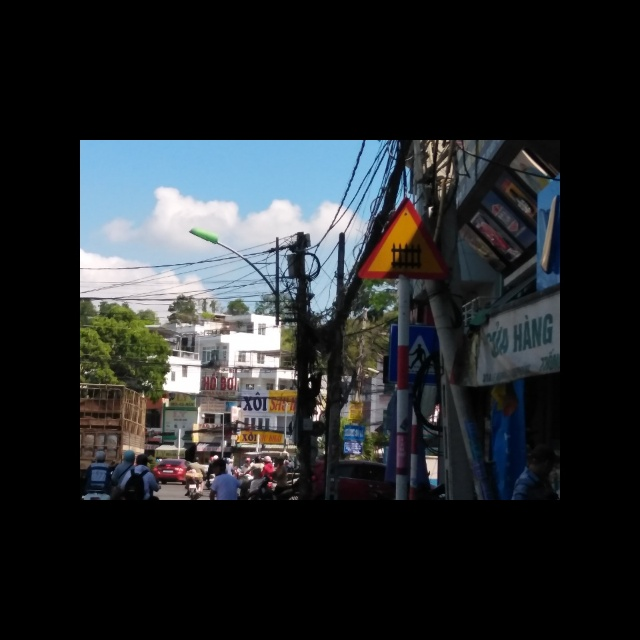Giao nhau với đường sắt có rào chắn: (357, 197, 450, 279)
